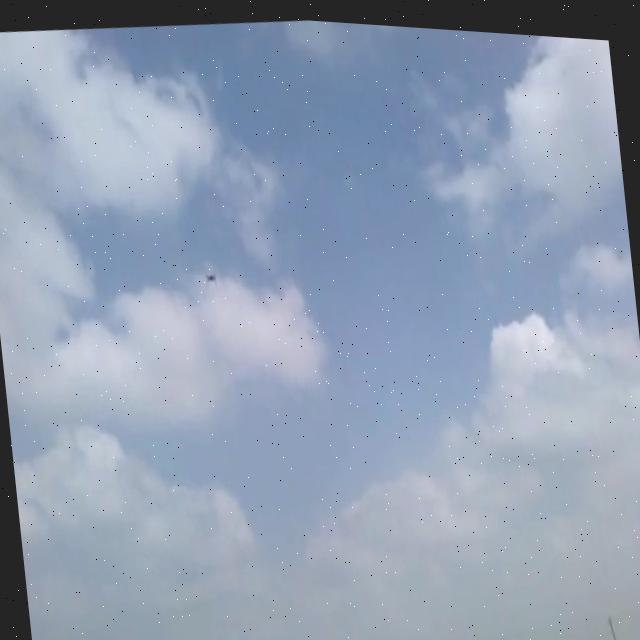drone: (202, 263, 218, 285)
